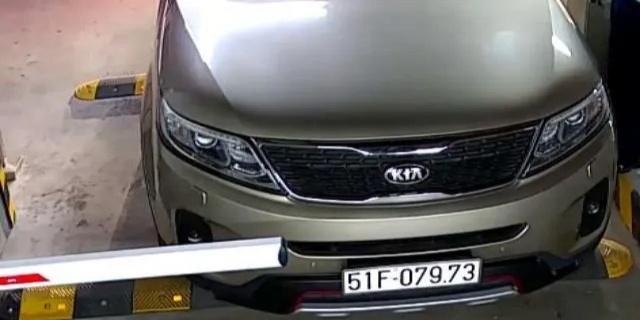bien_so: (343, 263, 481, 291)
